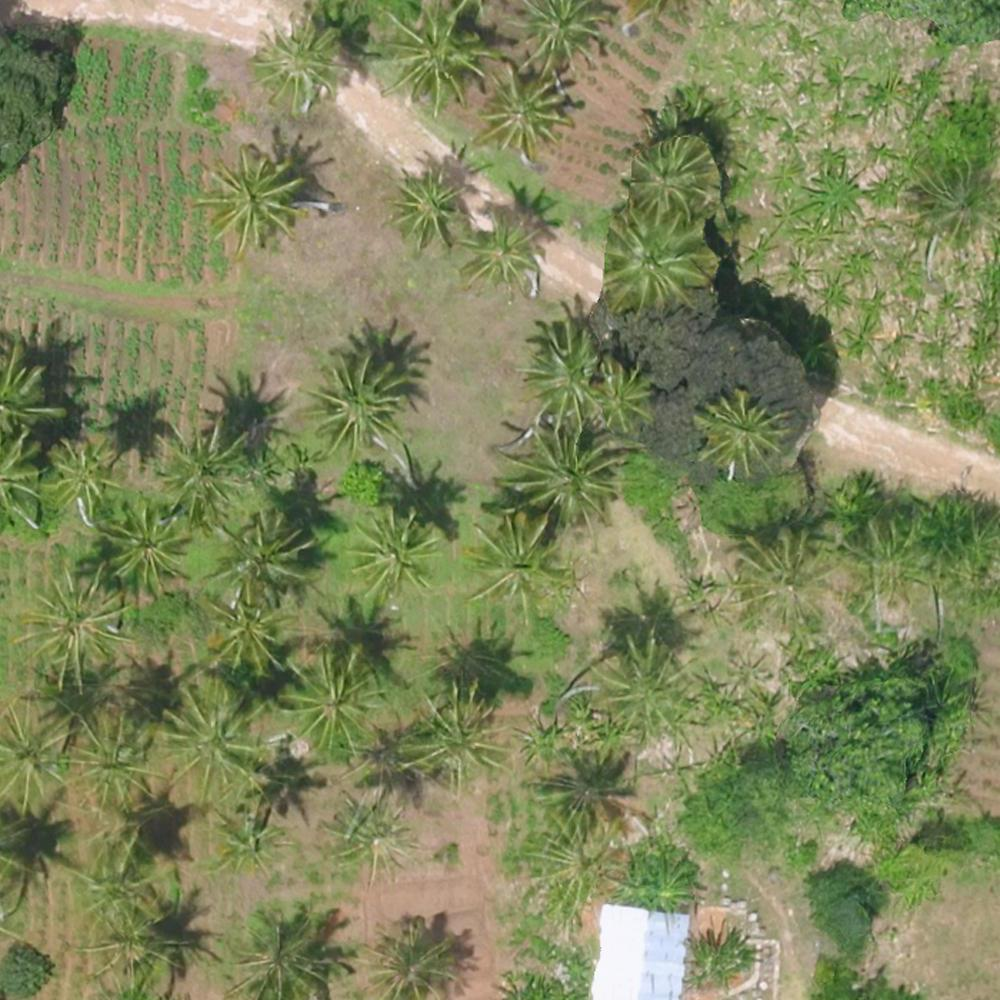Palm: (157, 681, 266, 799), (22, 567, 132, 682), (371, 6, 490, 109), (460, 508, 571, 613), (497, 425, 613, 525), (282, 648, 382, 760), (202, 149, 308, 248), (300, 358, 407, 456), (69, 711, 164, 819), (399, 693, 502, 788), (218, 511, 317, 609), (602, 221, 707, 313), (227, 910, 331, 1000), (153, 428, 250, 523), (522, 323, 614, 422), (477, 63, 572, 156), (254, 17, 347, 110), (2, 698, 82, 805), (349, 508, 441, 601), (98, 502, 188, 595), (695, 388, 786, 476), (368, 917, 463, 998), (627, 138, 721, 219), (202, 599, 290, 685), (911, 159, 998, 243), (517, 1, 613, 76), (385, 166, 468, 246), (41, 436, 118, 518), (462, 212, 538, 292), (202, 804, 282, 879), (596, 360, 662, 439)
